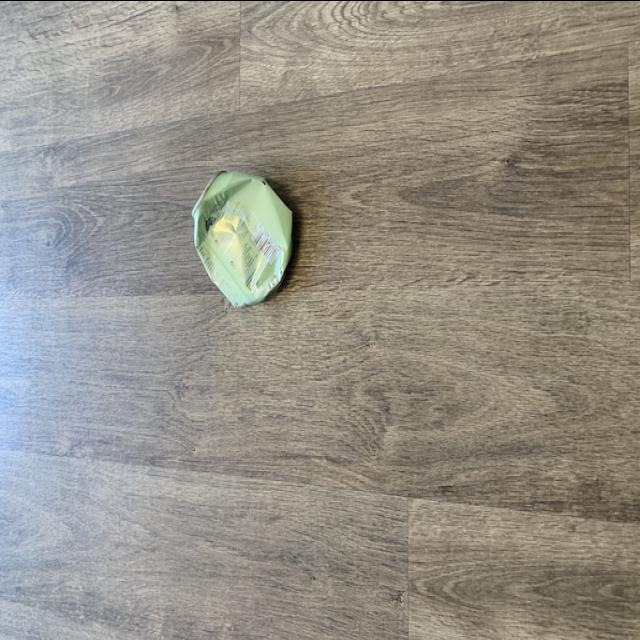Aluminum Can: (183, 146, 323, 318)
